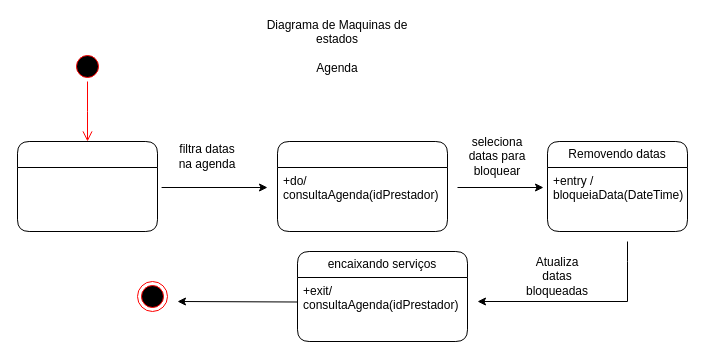
This 705x361 diagram has some shape labels left out. The box of each missing label's shape, as (x1, y1, x2, y2) in pixels:
Consultando datas: (276, 140, 448, 232)
Gerenciando agenda: (16, 140, 158, 232)
